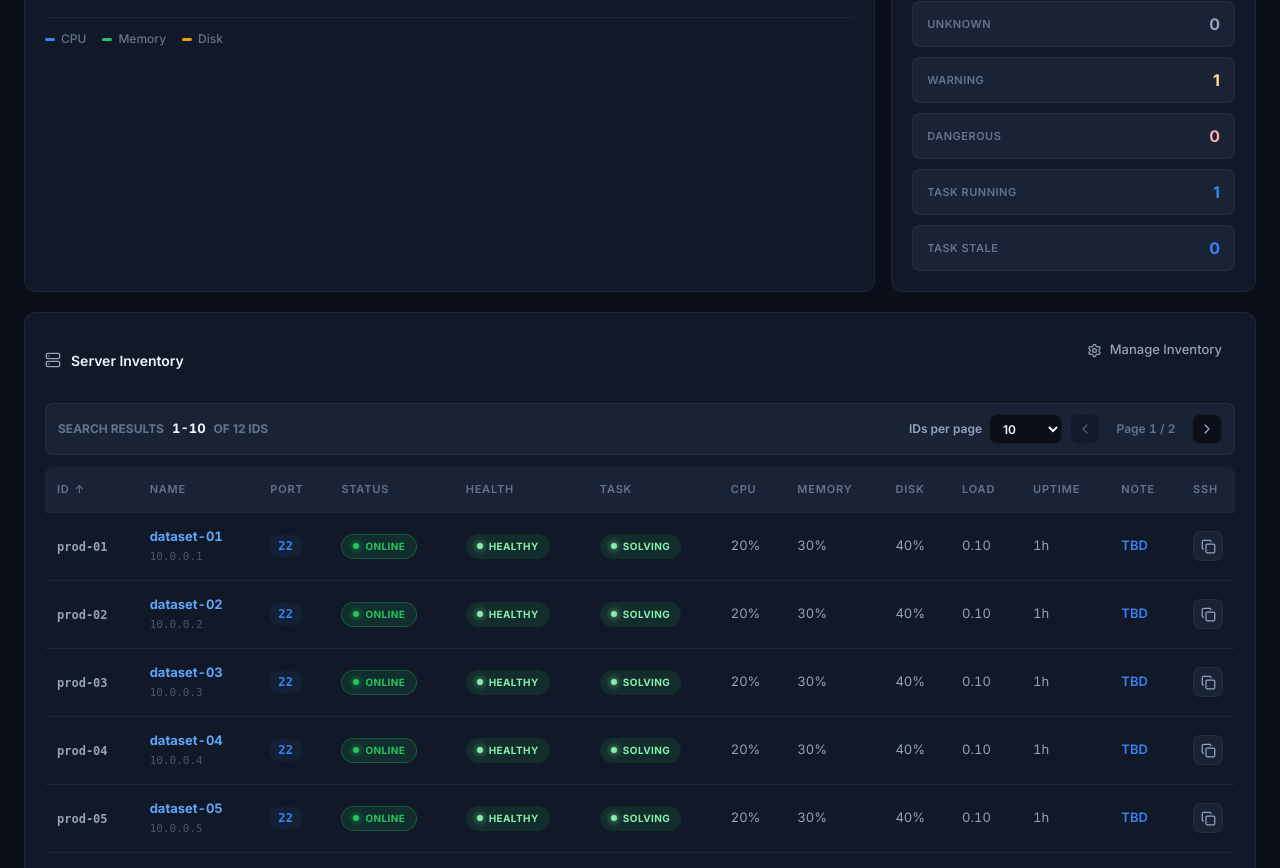
it: App › paginates search results after filtering and id sorting
The image size is (1280, 868).
(page scrolled)
Expected: the text "Search Results" is shown, [58,420,164,438]
Expected: the text "1-10" is shown, [172,419,206,439]
Step 1. Select "5" in the dropdown labelled "IDs per page" → (1026, 429), box [989,414,1062,444]
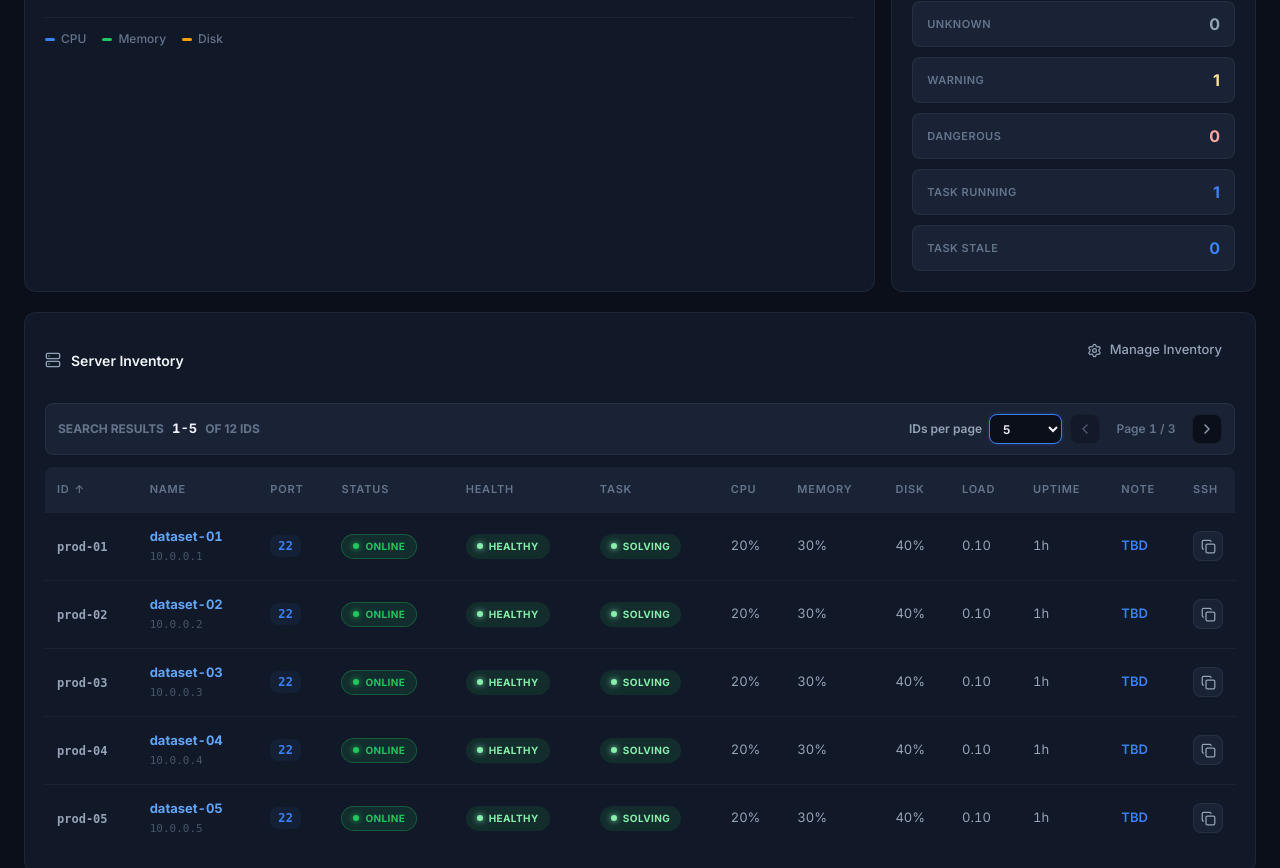
Expected: the text "1-5" is shown, [172,419,197,439]
Step 2. Click the button named "Next results page" → (1207, 429), box [1192,414,1222,444]
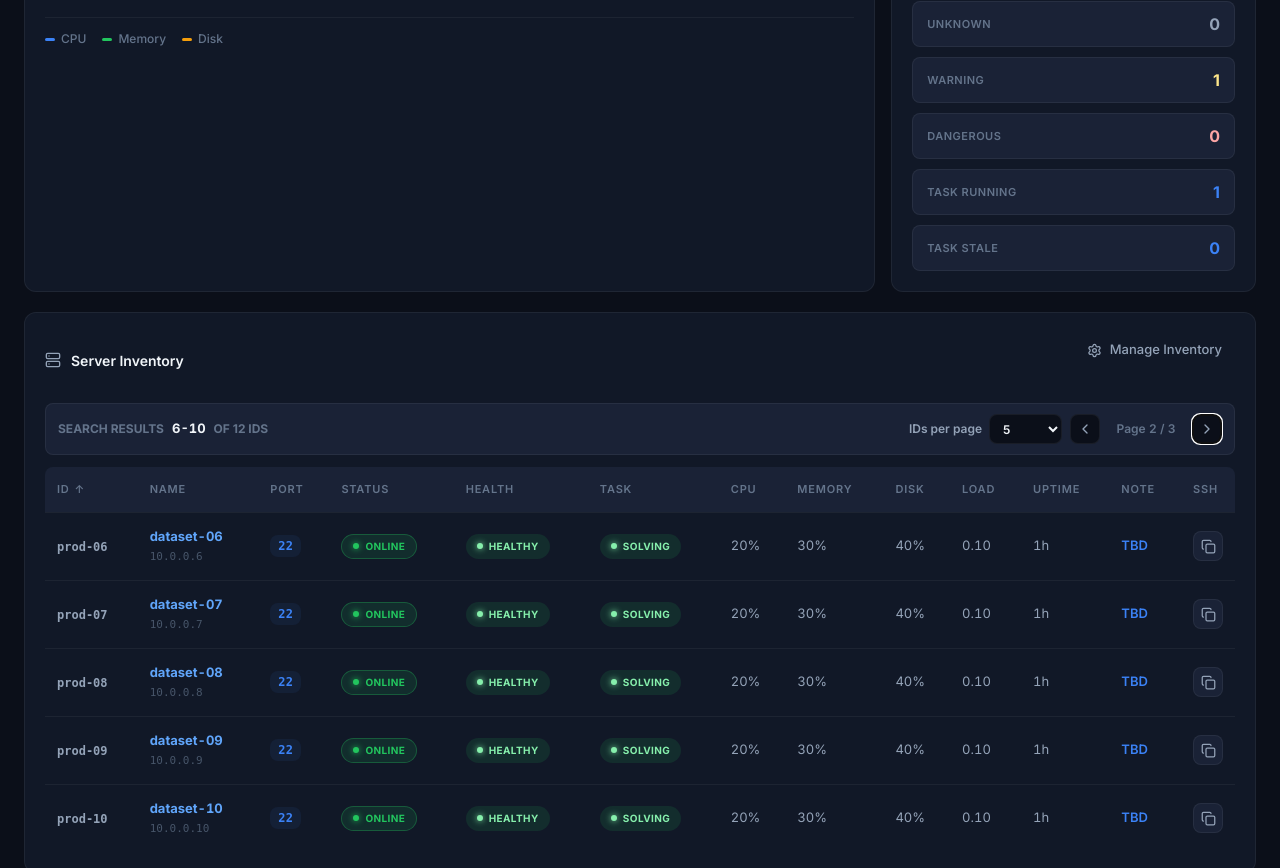
Expected: the text "6-10" is shown, [172,419,206,439]
Step 3. Click the button named "Sort by ID descending" → (71, 489), box [57,481,85,498]
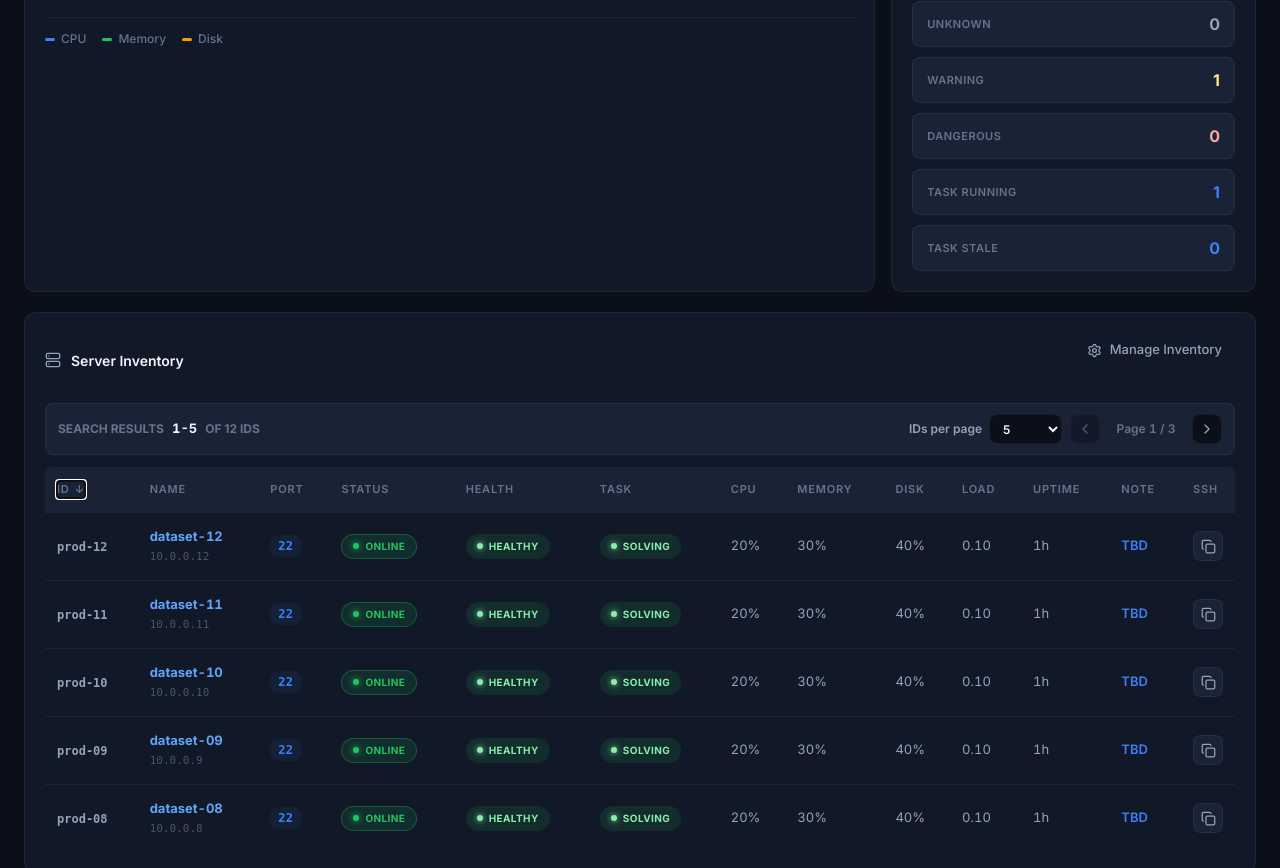
Expected: the text "1-5" is shown, [172,419,197,439]
